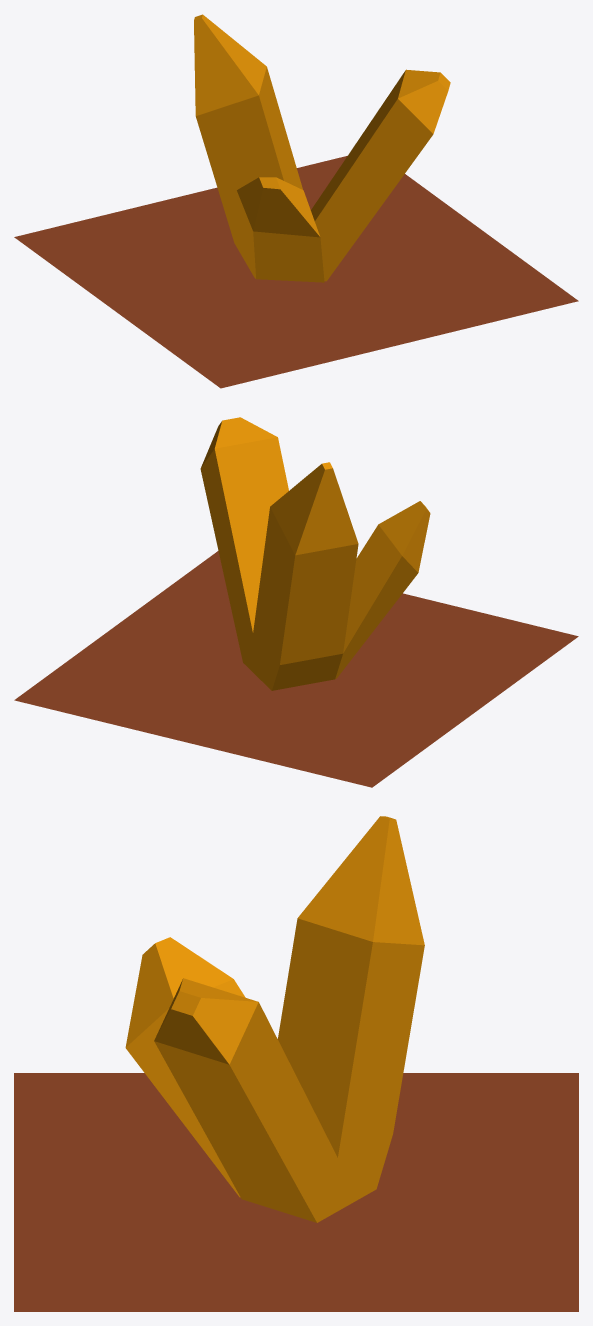
The model's file is arany1.glb.
3 views of the same model, one above another, from view 1: azimuth 30°, elevation 25°; view 2: azimuth 150°, elevation 25°; view 3: azimuth 270°, elevation 25° (orthographic). The views are drawn at different scales.
Visible parts, largest first — view 1: Plane.001, Plane; view 2: Plane.001, Plane; view 3: Plane.001, Plane.
Boxes of the visible parts, x1,y1,x2,y2 form: Plane.001: (14, 156, 578, 388); Plane: (194, 14, 450, 282); Plane.001: (14, 551, 578, 787); Plane: (200, 417, 430, 690); Plane.001: (14, 1073, 578, 1311); Plane: (125, 816, 424, 1222).
Bounding box in the file's own units: 2 × 1.32 × 2.
